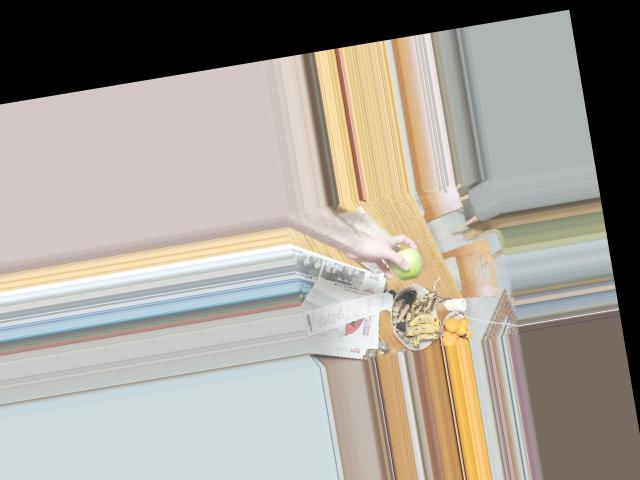apple: (386, 246, 424, 282)
